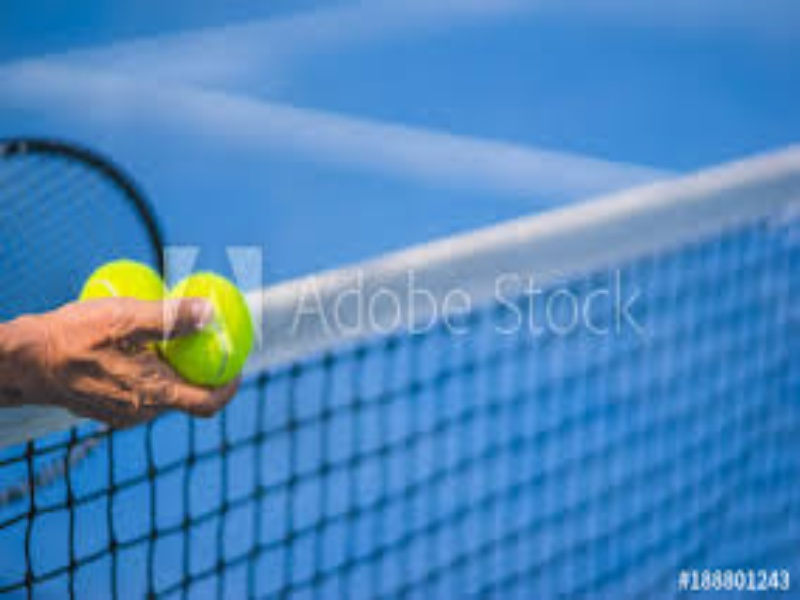tennis ball: (147, 260, 278, 412), (55, 251, 195, 356)
